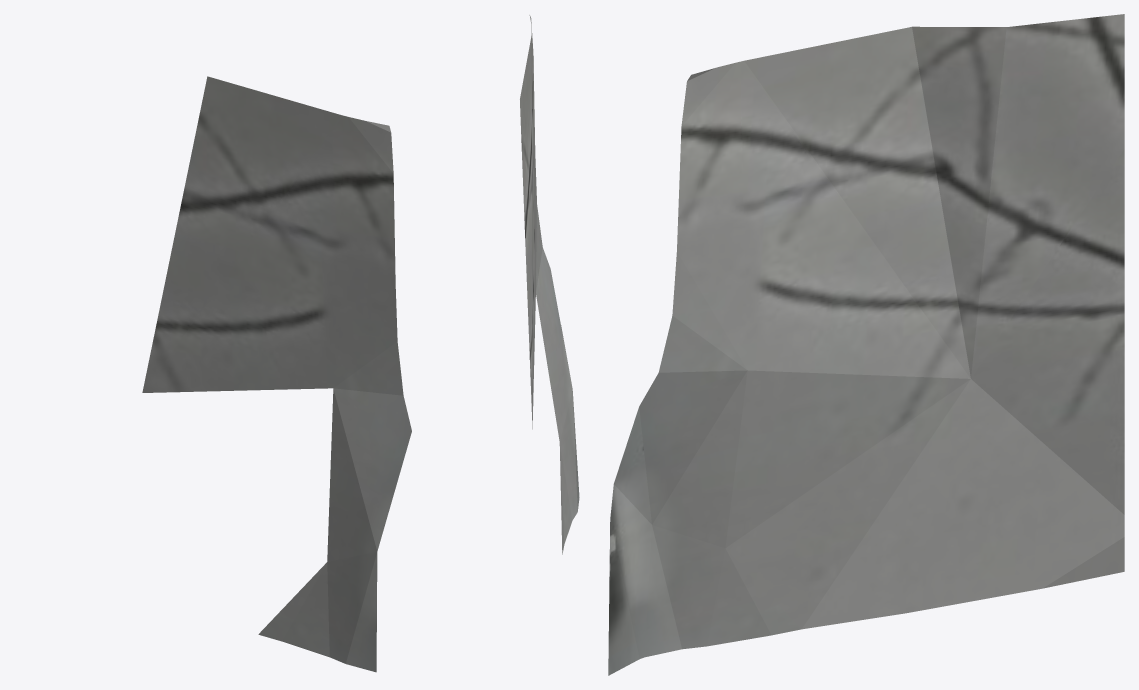
The picture shows the model from 3 angles, left to right: view 1: azimuth 30°, elevation 25°; view 2: azimuth 150°, elevation 25°; view 3: azimuth 270°, elevation 25°; orthographic projection. The views are drawn at different scales.
Bounding box in the file's own units: 0.3114 × 0.8373 × 0.652.
Materials: 2 (2 with a texture image).
